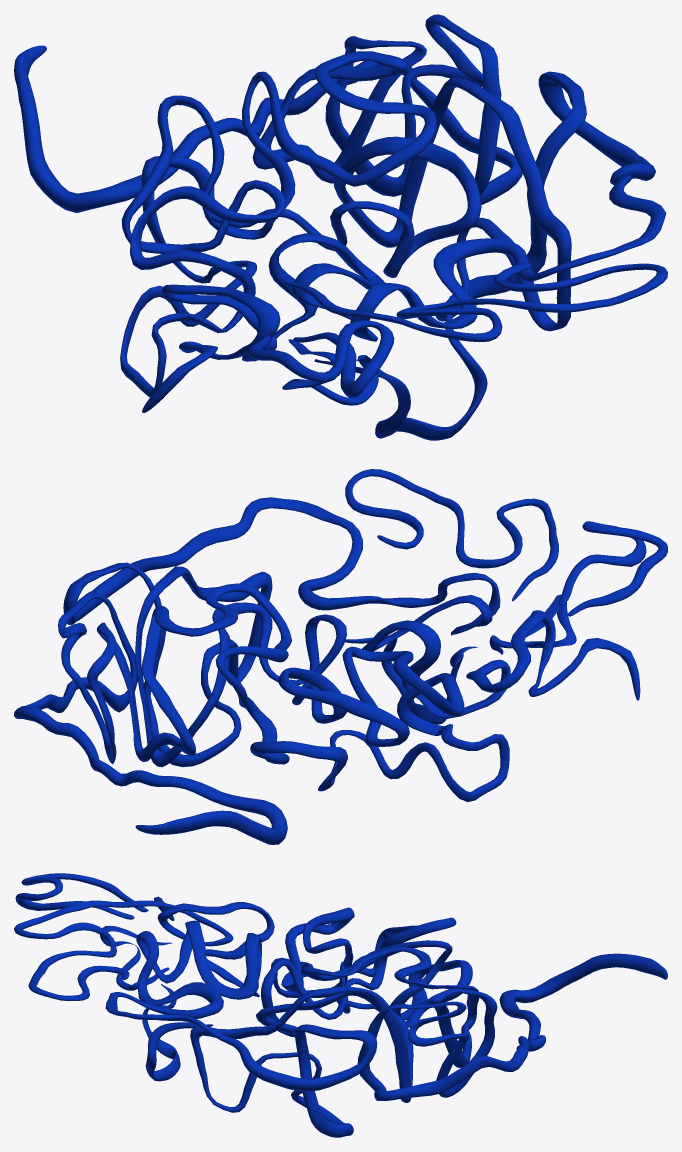
The model's file is SmallIntestine_5_Lumen.fbx.
The picture shows the model from 3 angles, top to bottom: view 1: azimuth 30°, elevation 25°; view 2: azimuth 150°, elevation 25°; view 3: azimuth 270°, elevation 25°; orthographic projection. The views are drawn at different scales.
Parts seen in each view (by area): view 1: SmallIntestine_5_Lumen; view 2: SmallIntestine_5_Lumen; view 3: SmallIntestine_5_Lumen.
Part boxes in pixels (x1,y1,x2,y2): SmallIntestine_5_Lumen: (14, 14, 667, 440); SmallIntestine_5_Lumen: (14, 469, 667, 844); SmallIntestine_5_Lumen: (14, 873, 667, 1137).
Size of the model in its own units: 182 by 68.13 by 253.
